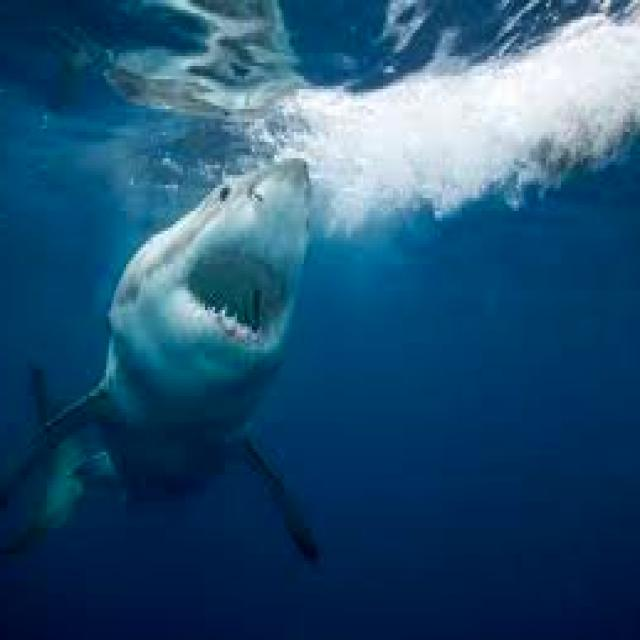shark: (2, 158, 319, 558)
